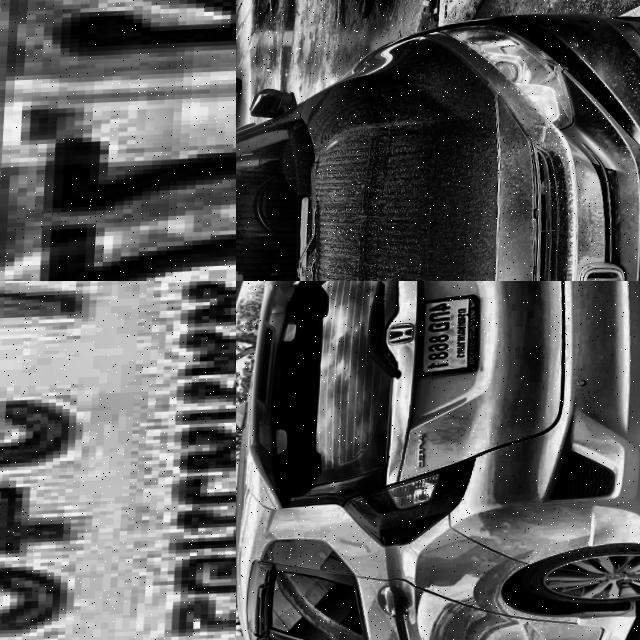license-plate: (0, 281, 236, 640), (0, 0, 236, 281), (412, 297, 482, 381)
